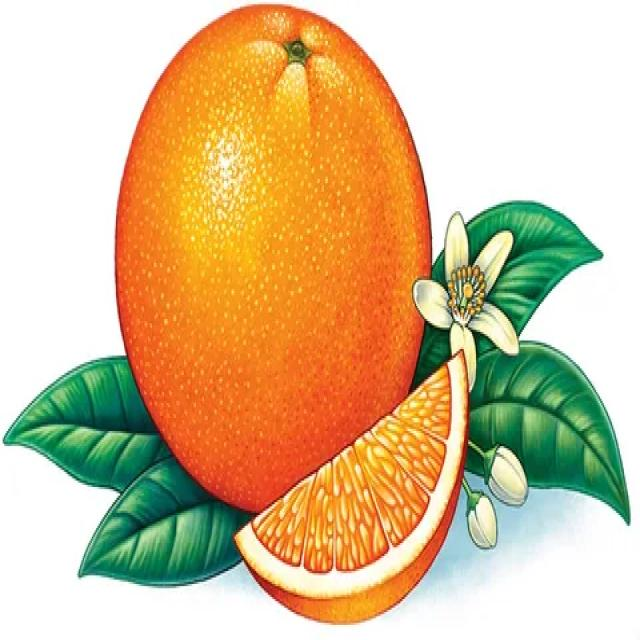orange: (108, 0, 436, 505)
